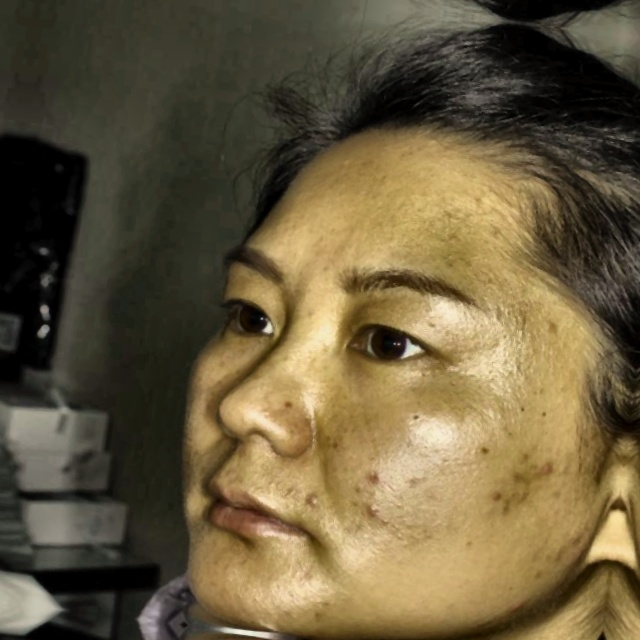comedone: (482, 487, 516, 526), (352, 492, 386, 525), (357, 462, 390, 494), (289, 487, 321, 516), (534, 457, 562, 486)
